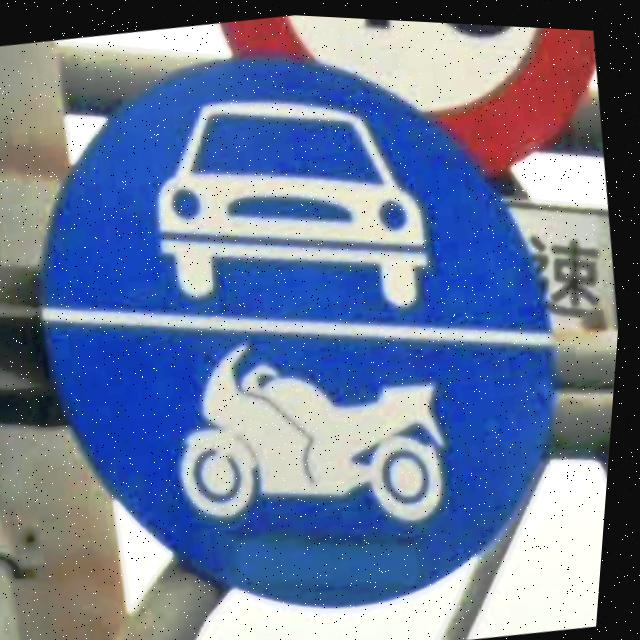carmotorcycle: (44, 56, 564, 607)
